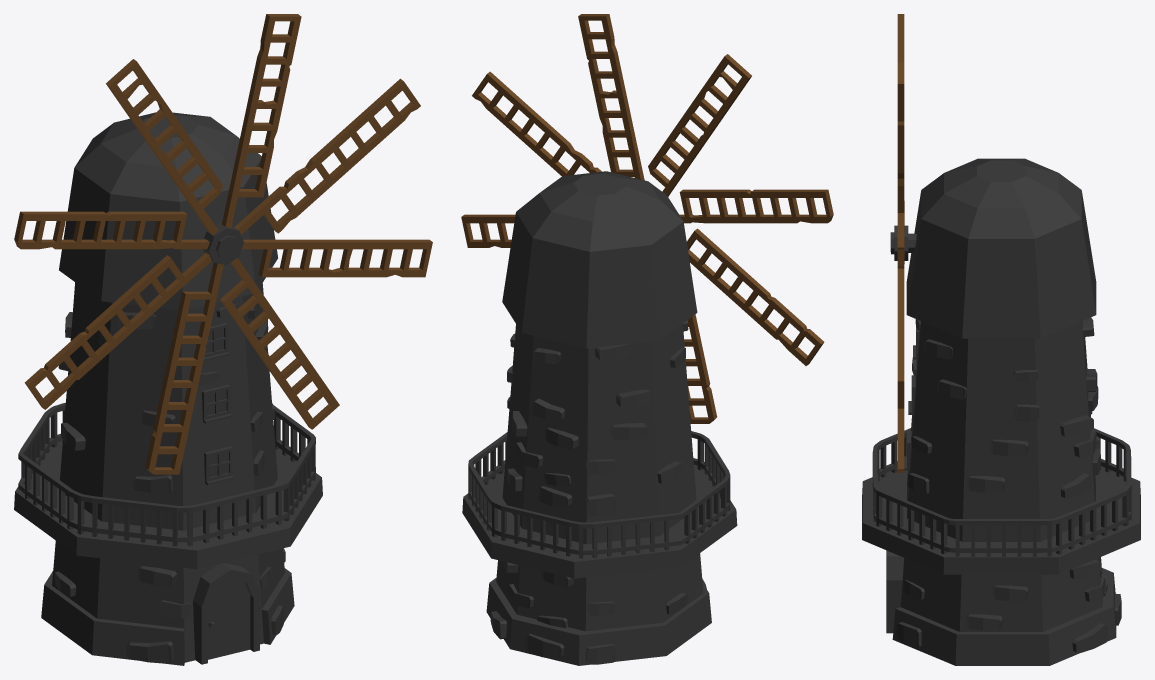
Rendered from farm.windmill.t2.glb.
3 views of the same model, side by side, from view 1: azimuth 30°, elevation 25°; view 2: azimuth 150°, elevation 25°; view 3: azimuth 270°, elevation 25° (orthographic). The views are drawn at different scales.
Size of the model in its own units: 0.6943 by 1 by 0.4373.
